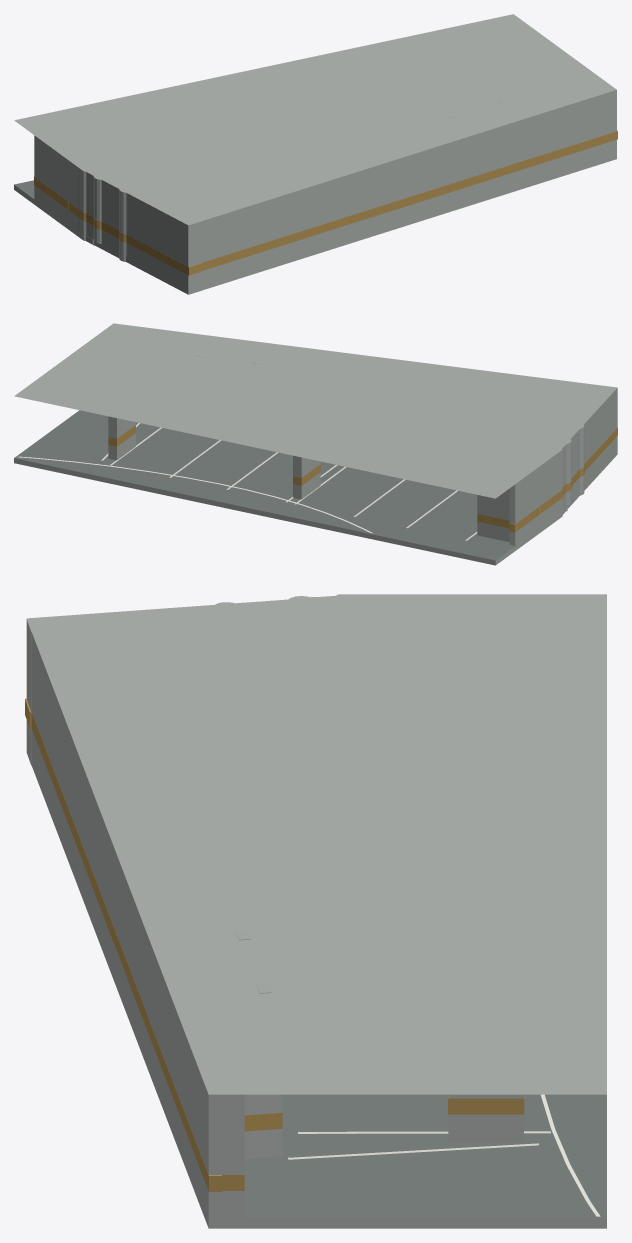
The model's file is B03-south-parking.glb.
3 views of the same model, one above another, from view 1: azimuth 30°, elevation 25°; view 2: azimuth 150°, elevation 25°; view 3: azimuth 270°, elevation 25° (orthographic). The views are drawn at different scales.
Visible parts, largest first — view 1: ASSUMED | ceiling2.70 above floor, SOURCE WALL 116, SOURCE WALL 108, PROPOSED | identity band.011, SCENE CUT | slab edge.003, PROPOSED | identity band.009, SOURCE WALL 783, SOURCE WALL 722, SOURCE WALL 724, SOURCE WALL 718, SOURCE WALL 719, SOURCE WALL 721 (+1 smaller); view 2: ASSUMED | ceiling2.70 above floor, SOURCE GRADES | interpolated floor, SOURCE WALL 108, SCENE CUT | slab edge.001, SOURCE WALL 116, SOURCE WALL 129, SOURCE WALL 17, SOURCE WALL 18, PROPOSED | identity band.009, PROPOSED TRAFFIC | source-two-way-aisle | edge, SOURCE WALL 719, SOURCE WALL 720 (+6 smaller); view 3: ASSUMED | ceiling2.70 above floor, SOURCE GRADES | interpolated floor, SOURCE WALL 116, SCENE CUT | slab edge.002, PROPOSED | identity band.011, SOURCE WALL 17, SOURCE WALL 108, SCENE CUT | slab edge.003, SOURCE WALL 92, SOURCE WALL 497, PROPOSED | identity band, SOURCE WALL 783 (+1 smaller).
Part boxes in pixels (left/top/right/bottom): ASSUMED | ceiling2.70 above floor: left=14, top=14, right=616, bottom=221; SOURCE WALL 116: left=191, top=87, right=616, bottom=285; SOURCE WALL 108: left=34, top=135, right=200, bottom=289; PROPOSED | identity band.011: left=201, top=130, right=617, bottom=271; SCENE CUT | slab edge.003: left=200, top=154, right=616, bottom=290; PROPOSED | identity band.009: left=34, top=176, right=201, bottom=275; SOURCE WALL 783: left=386, top=101, right=552, bottom=151; SOURCE WALL 722: left=93, top=173, right=109, bottom=243; SOURCE WALL 724: left=119, top=186, right=134, bottom=256; SOURCE WALL 718: left=49, top=146, right=59, bottom=215; SOURCE WALL 719: left=59, top=153, right=70, bottom=222; SOURCE WALL 721: left=79, top=165, right=90, bottom=235; ASSUMED | ceiling2.70 above floor: left=14, top=323, right=610, bottom=498; SOURCE GRADES | interpolated floor: left=14, top=410, right=567, bottom=560; SOURCE WALL 108: left=513, top=385, right=617, bottom=545; SCENE CUT | slab edge.001: left=14, top=458, right=495, bottom=565; SOURCE WALL 116: left=112, top=323, right=602, bottom=391; SOURCE WALL 129: left=477, top=471, right=516, bottom=542; SOURCE WALL 17: left=108, top=416, right=135, bottom=460; SOURCE WALL 18: left=293, top=455, right=320, bottom=499; PROPOSED | identity band.009: left=513, top=427, right=617, bottom=532; PROPOSED TRAFFIC | source-two-way-aisle | edge: left=18, top=456, right=372, bottom=533; SOURCE WALL 719: left=536, top=461, right=546, bottom=528; SOURCE WALL 720: left=542, top=454, right=555, bottom=521; ASSUMED | ceiling2.70 above floor: left=34, top=594, right=606, bottom=1094; SOURCE GRADES | interpolated floor: left=244, top=1094, right=606, bottom=1218; SOURCE WALL 116: left=31, top=629, right=227, bottom=1218; SCENE CUT | slab edge.002: left=208, top=1218, right=606, bottom=1228; PROPOSED | identity band.011: left=31, top=712, right=221, bottom=1191; SOURCE WALL 17: left=448, top=1094, right=523, bottom=1141; SOURCE WALL 108: left=26, top=594, right=528, bottom=755; SCENE CUT | slab edge.003: left=31, top=756, right=208, bottom=1227; SOURCE WALL 92: left=216, top=1032, right=282, bottom=1158; SOURCE WALL 497: left=221, top=1075, right=235, bottom=1218; PROPOSED | identity band: left=448, top=1095, right=524, bottom=1114; SOURCE WALL 783: left=147, top=852, right=220, bottom=1032.
Size of the model in its own units: 22.05 by 3.58 by 11.51.
